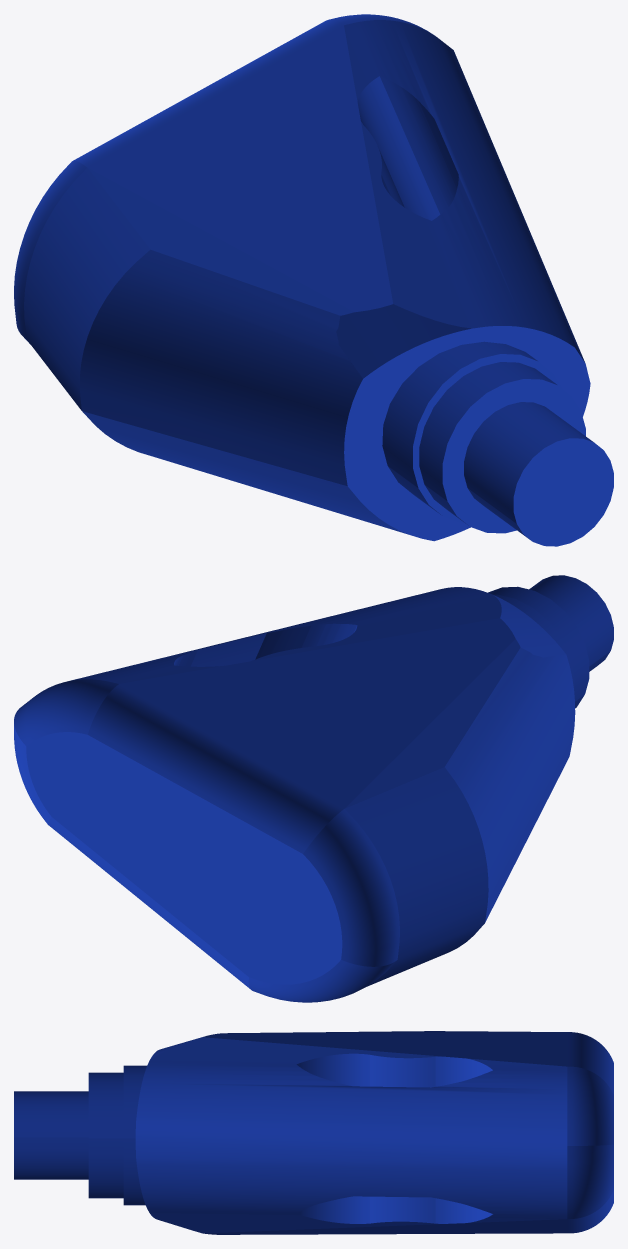
File: model_scale.obj
The picture shows the model from 3 angles, top to bottom: view 1: azimuth 30°, elevation 25°; view 2: azimuth 150°, elevation 25°; view 3: azimuth 270°, elevation 25°; orthographic projection. The views are drawn at different scales.
Parts seen in each view (by area): view 1: mesh1_mesh1-geometry; view 2: mesh1_mesh1-geometry; view 3: mesh1_mesh1-geometry.
Part boxes in pixels (x1,y1,x2,y2): mesh1_mesh1-geometry: [14, 14, 613, 546]; mesh1_mesh1-geometry: [14, 575, 613, 1002]; mesh1_mesh1-geometry: [14, 1031, 613, 1234].
Size of the model in its own units: 0.1062 by 0.071 by 0.1618.
